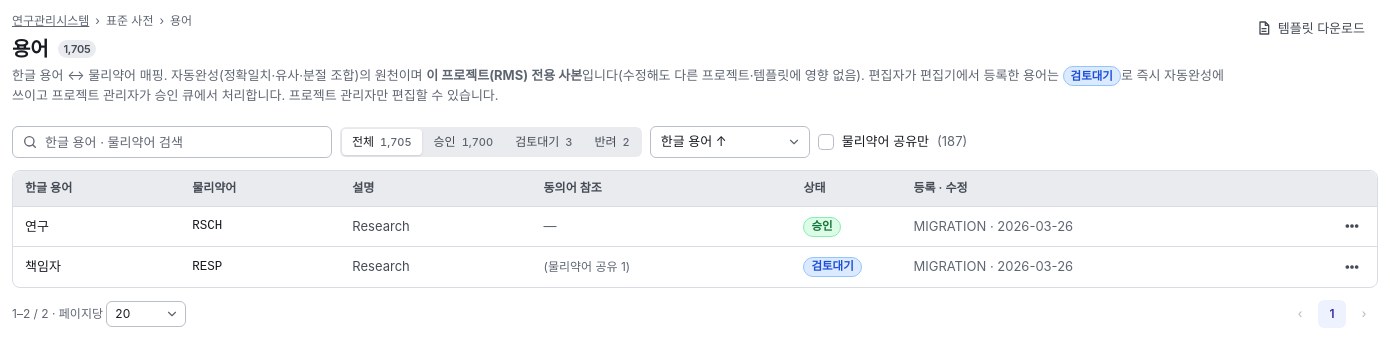
Test case: TermsPage(04) — S1 단건 › 조회자: 인라인 입력행·일괄 등록·수정·삭제 숨김(변경이력만)
The image size is (1390, 345).
Click the button named "연구 행 메뉴".
click(1352, 226)  # box [1339,213,1365,239]
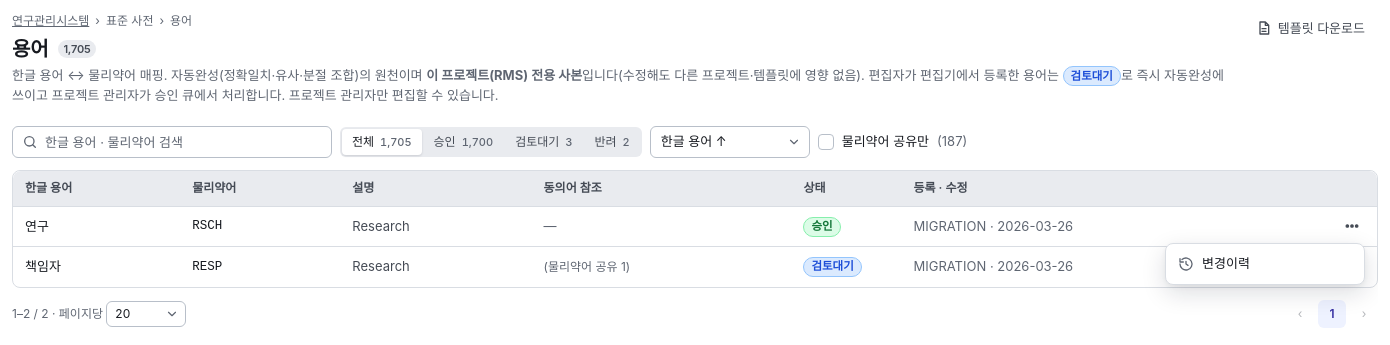
Expected: the text "프로젝트 관리자만 편집할 수 있습니다" is shown, [12,67,1224,104]
Expected: the elements with class "dropdown-item" read "변경이력", in this order, [1170,248,1360,280]
